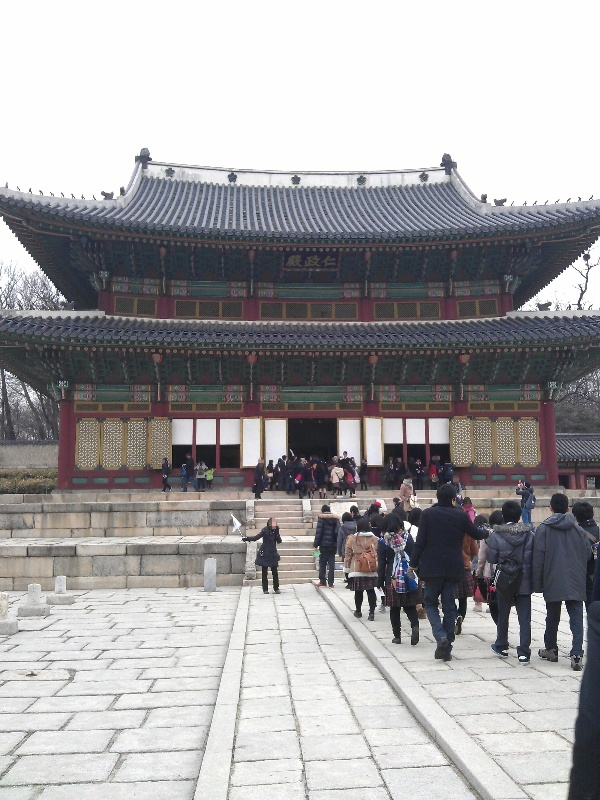text: (289, 254, 304, 268), (305, 254, 320, 268), (321, 254, 336, 268), (286, 254, 288, 268), (337, 254, 338, 268)
